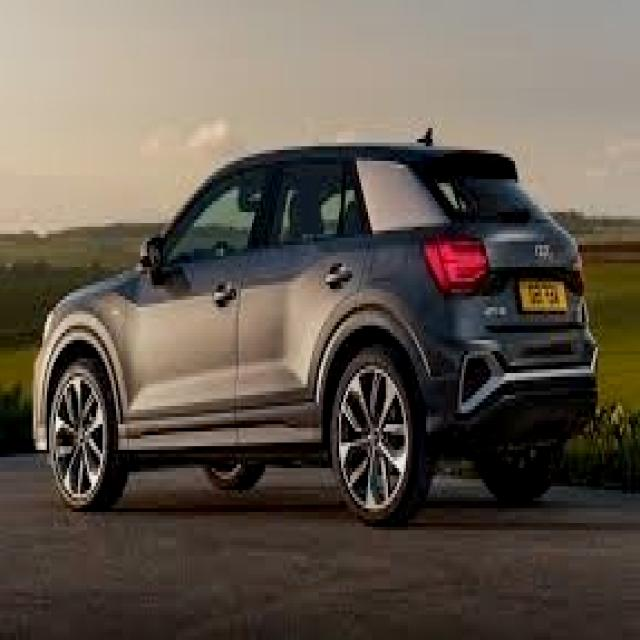black: (43, 96, 602, 496)
